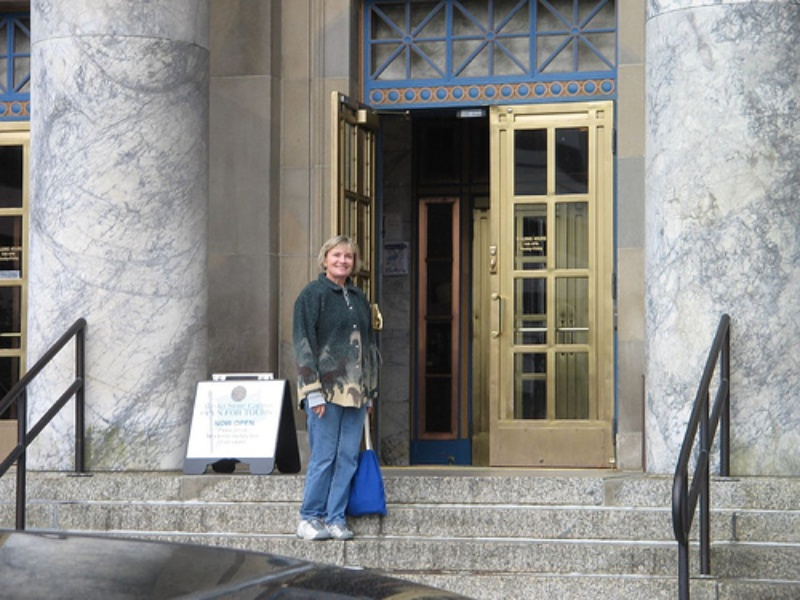person: (292, 235, 382, 542)
